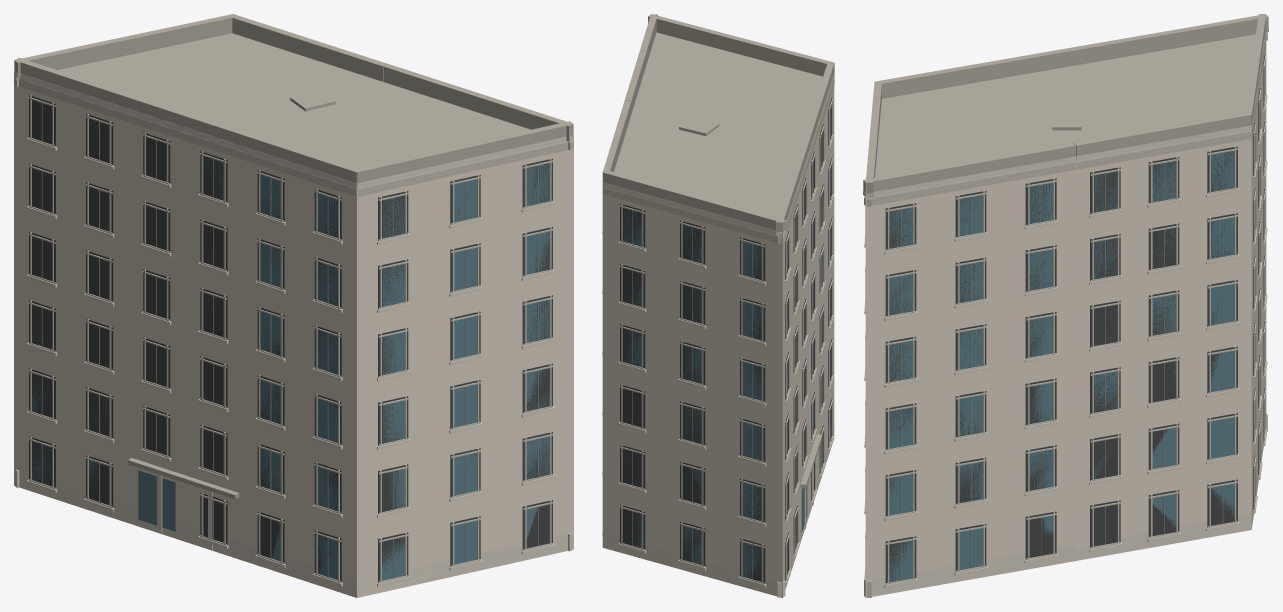
Rendered from cop_equipamento_especial_01__way_227727240.fbx.
3 renders of one model, left to right at view 1: azimuth 30°, elevation 25°; view 2: azimuth 150°, elevation 25°; view 3: azimuth 270°, elevation 25°, orthographic. The views are drawn at different scales.
Visible parts, largest first — view 1: cop_equipamento_especial_01__way_227727240_wall, cop_equipamento_especial_01__way_227727240_roof, cop_equipamento_especial_01__way_227727240_shadow, cop_equipamento_especial_01__way_227727240_glass, cop_equipamento_especial_01__way_227727240_trim, cop_equipamento_especial_01__way_227727240_stone, cop_equipamento_especial_01__way_227727240_metal; view 2: cop_equipamento_especial_01__way_227727240_wall, cop_equipamento_especial_01__way_227727240_roof, cop_equipamento_especial_01__way_227727240_shadow, cop_equipamento_especial_01__way_227727240_trim, cop_equipamento_especial_01__way_227727240_glass, cop_equipamento_especial_01__way_227727240_stone, cop_equipamento_especial_01__way_227727240_metal; view 3: cop_equipamento_especial_01__way_227727240_wall, cop_equipamento_especial_01__way_227727240_roof, cop_equipamento_especial_01__way_227727240_shadow, cop_equipamento_especial_01__way_227727240_glass, cop_equipamento_especial_01__way_227727240_trim, cop_equipamento_especial_01__way_227727240_stone, cop_equipamento_especial_01__way_227727240_metal.
Boxes of the visible parts, bbox=[...] form: cop_equipamento_especial_01__way_227727240_wall: bbox=[14, 76, 573, 597]; cop_equipamento_especial_01__way_227727240_roof: bbox=[14, 14, 573, 499]; cop_equipamento_especial_01__way_227727240_shadow: bbox=[29, 95, 552, 582]; cop_equipamento_especial_01__way_227727240_glass: bbox=[32, 123, 549, 580]; cop_equipamento_especial_01__way_227727240_trim: bbox=[14, 77, 573, 583]; cop_equipamento_especial_01__way_227727240_stone: bbox=[14, 71, 573, 597]; cop_equipamento_especial_01__way_227727240_metal: bbox=[41, 103, 538, 578]; cop_equipamento_especial_01__way_227727240_wall: bbox=[602, 78, 834, 597]; cop_equipamento_especial_01__way_227727240_roof: bbox=[602, 14, 834, 488]; cop_equipamento_especial_01__way_227727240_shadow: bbox=[620, 96, 832, 583]; cop_equipamento_especial_01__way_227727240_trim: bbox=[603, 78, 834, 584]; cop_equipamento_especial_01__way_227727240_glass: bbox=[622, 108, 831, 578]; cop_equipamento_especial_01__way_227727240_stone: bbox=[602, 73, 834, 597]; cop_equipamento_especial_01__way_227727240_metal: bbox=[632, 106, 831, 579]; cop_equipamento_especial_01__way_227727240_wall: bbox=[865, 41, 1266, 597]; cop_equipamento_especial_01__way_227727240_roof: bbox=[863, 14, 1268, 197]; cop_equipamento_especial_01__way_227727240_shadow: bbox=[885, 53, 1265, 584]; cop_equipamento_especial_01__way_227727240_glass: bbox=[889, 150, 1260, 582]; cop_equipamento_especial_01__way_227727240_trim: bbox=[864, 32, 1267, 584]; cop_equipamento_especial_01__way_227727240_stone: bbox=[863, 27, 1268, 597]; cop_equipamento_especial_01__way_227727240_metal: bbox=[900, 67, 1264, 580].
Size of the model in its own units: 1630 by 1869 by 1654.
